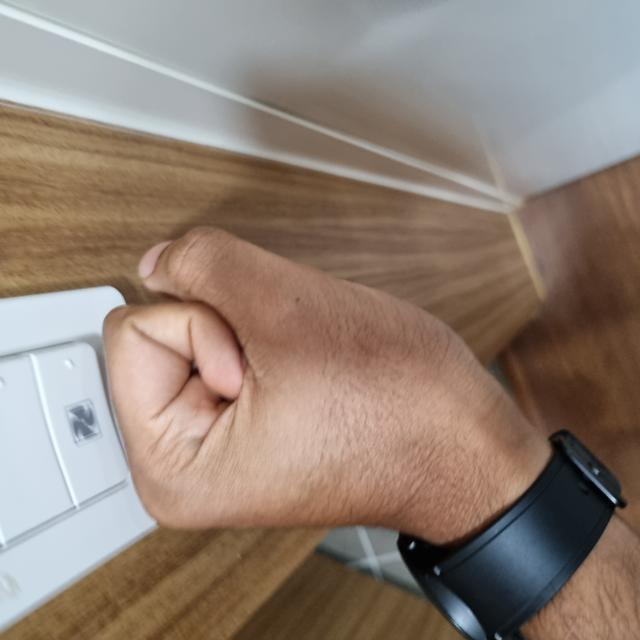Rock: (101, 99, 415, 513)
